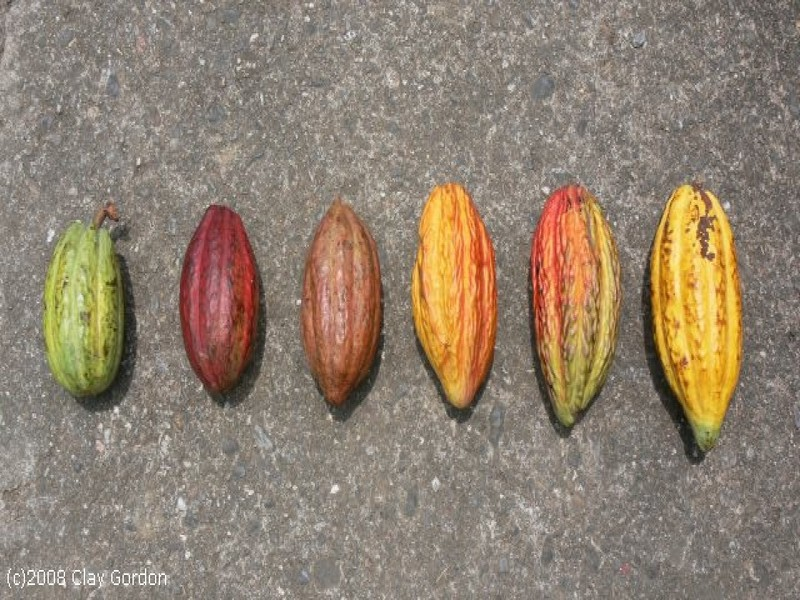Cacaopod: (645, 180, 747, 460), (527, 178, 619, 433), (407, 181, 498, 412), (297, 201, 386, 408), (177, 203, 259, 393), (45, 223, 126, 399)
